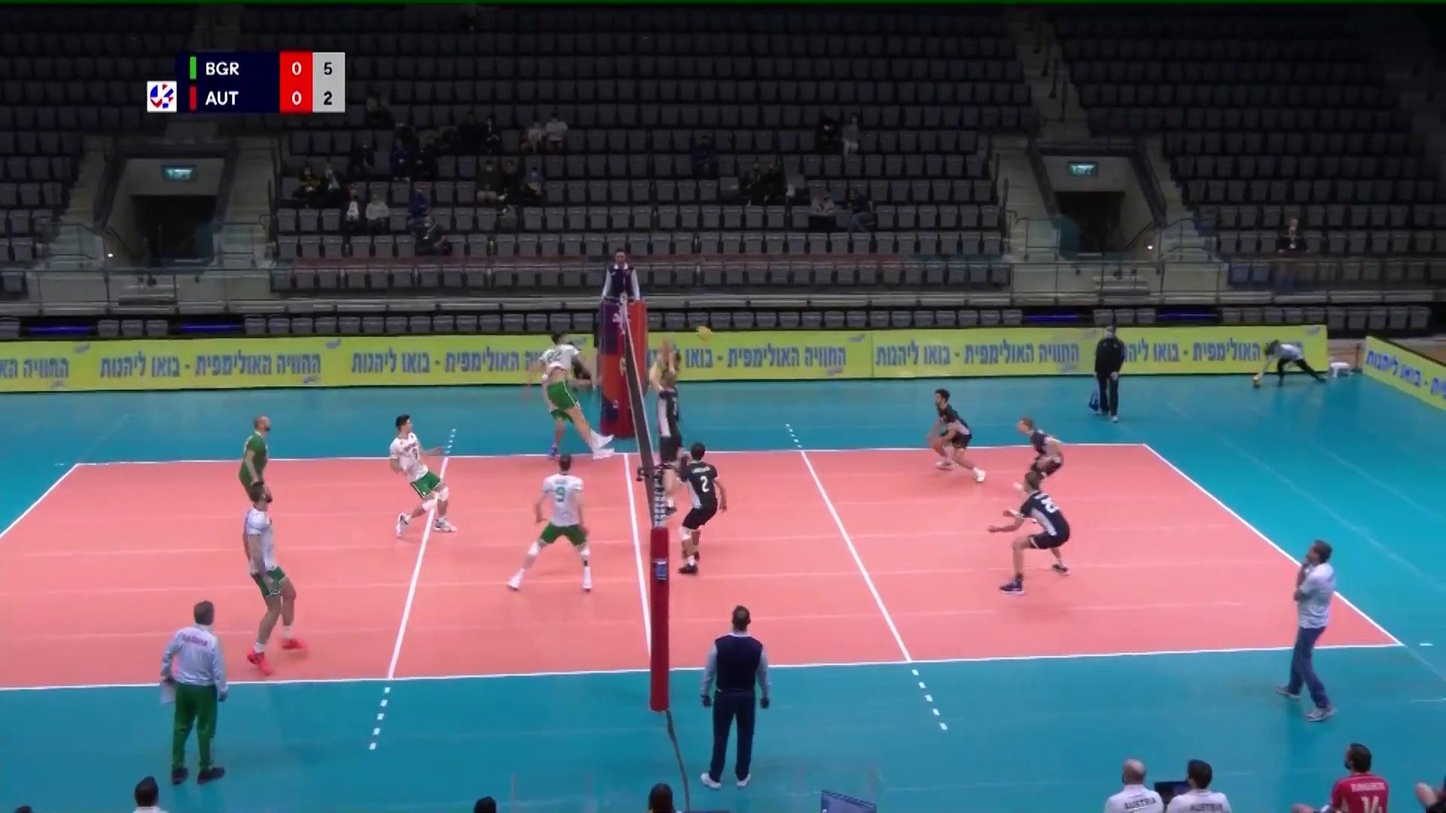ball: (696, 325, 713, 340)
